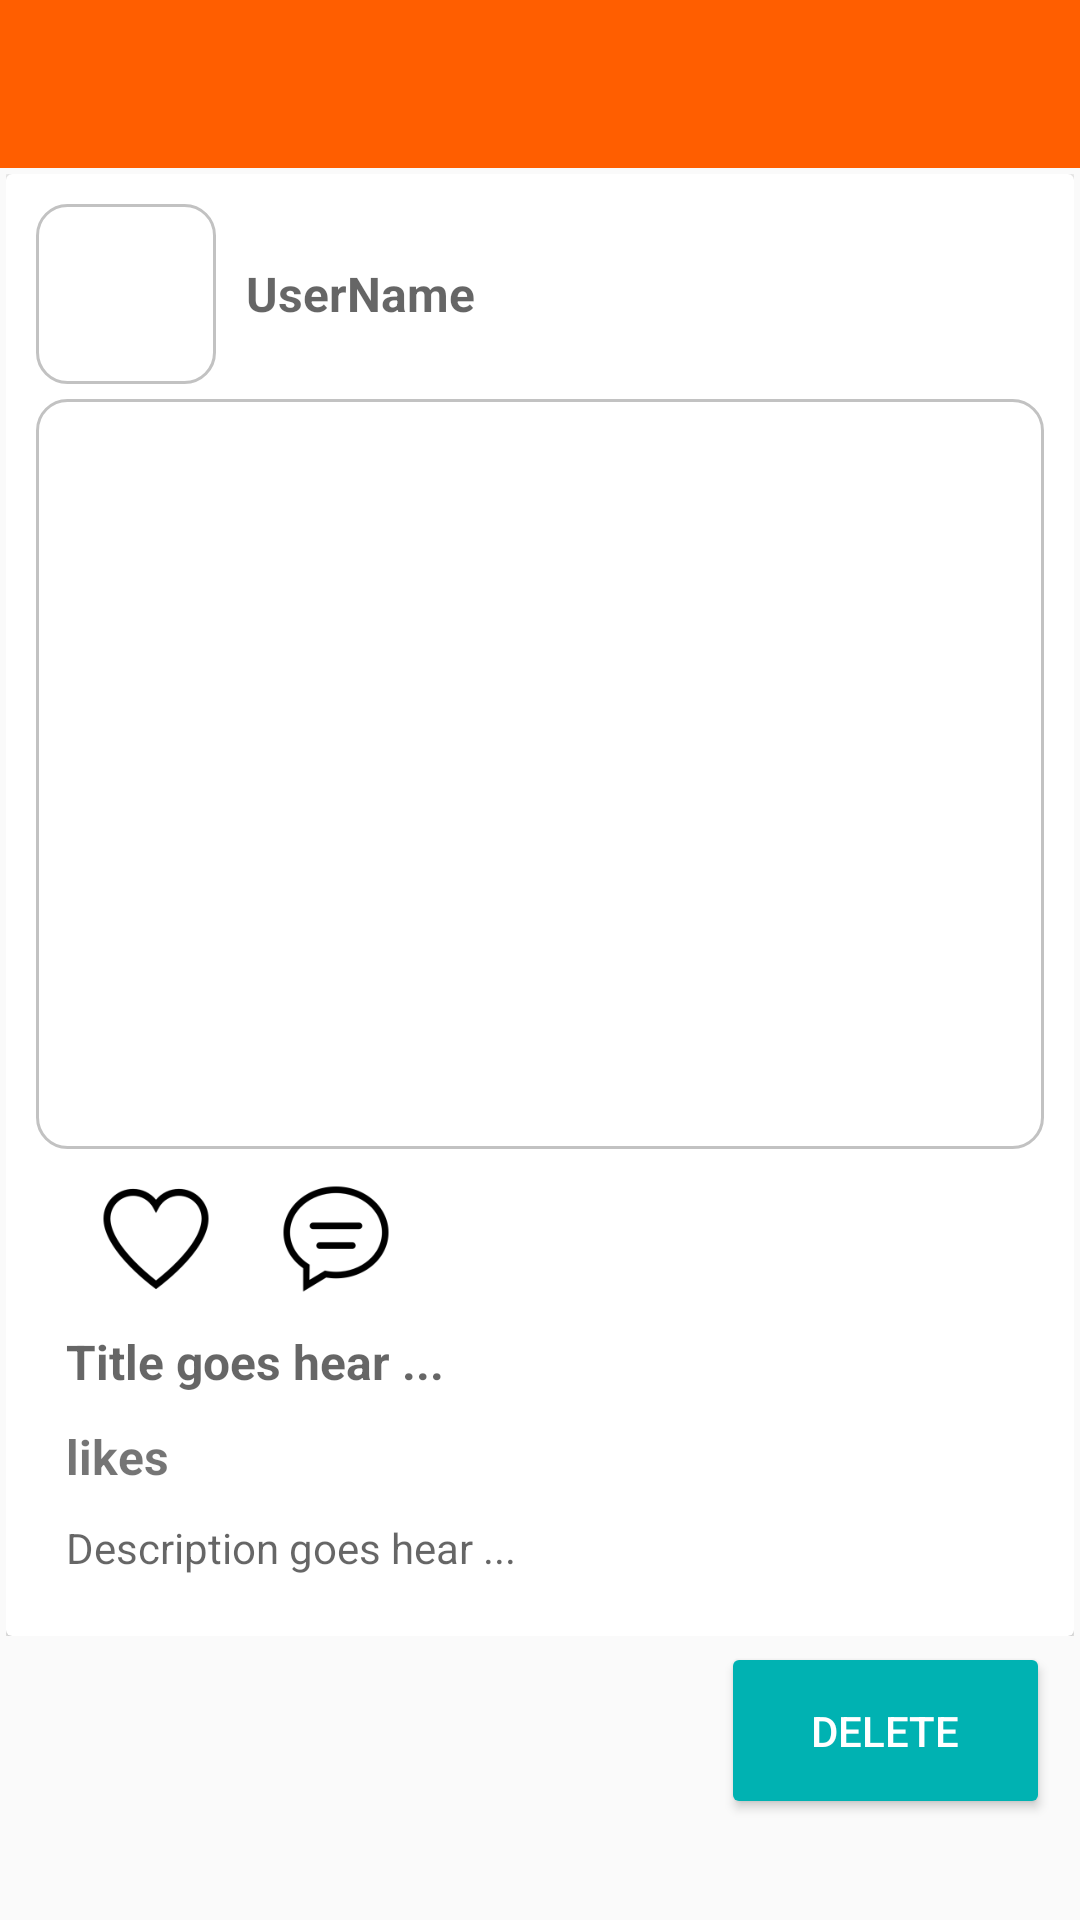

Point at icon controls on the screen. Image size 1080 × 1920, points as (x=x, y=y).
simple comment: (x=336, y=1239)
simple heart: (x=156, y=1239)
